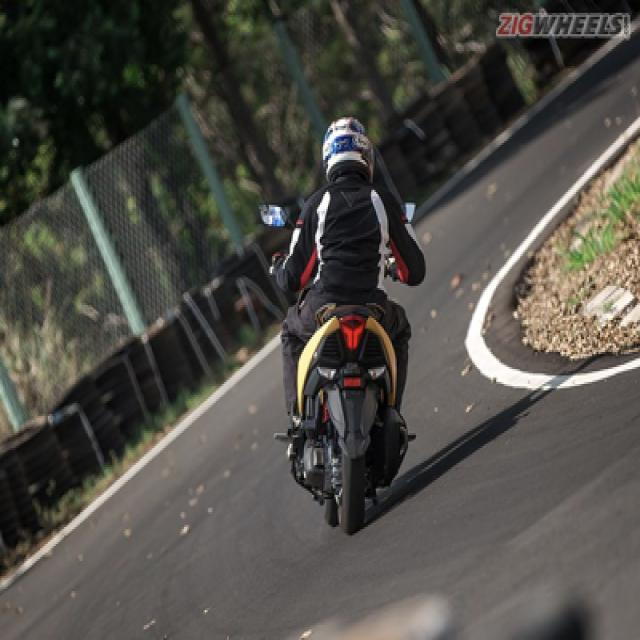helmet: (313, 107, 382, 202)
motorcycle: (237, 103, 446, 559)
